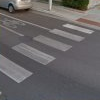crosswalk: (0, 23, 96, 83)
